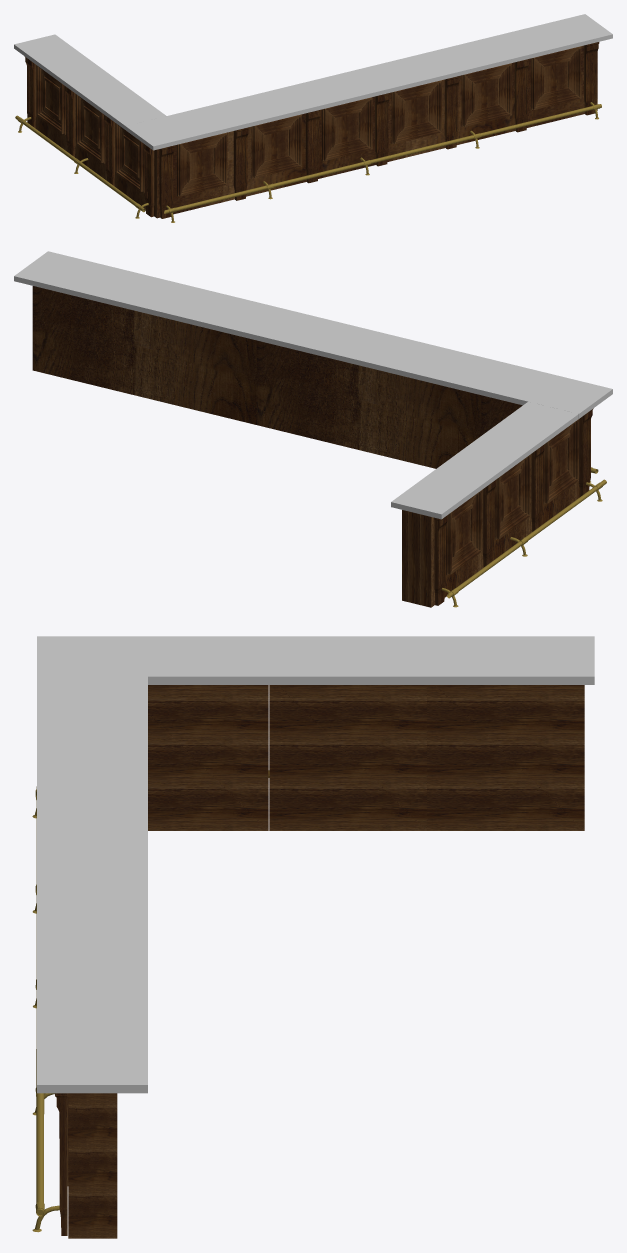
The model's file is Bar.FBX.
3 views of the same model, one above another, from view 1: azimuth 30°, elevation 25°; view 2: azimuth 150°, elevation 25°; view 3: azimuth 270°, elevation 25° (orthographic). The views are drawn at different scales.
Parts seen in each view (by area): view 1: bar, bar metallic structure; view 2: bar, bar metallic structure; view 3: bar, bar metallic structure.
Part boxes in pixels (x1,y1,x2,y2): bar: [14, 14, 612, 218]; bar metallic structure: [15, 102, 601, 222]; bar: [14, 251, 612, 607]; bar metallic structure: [441, 467, 606, 607]; bar: [37, 636, 594, 1238]; bar metallic structure: [32, 770, 269, 1232].
Size of the model in its own units: 7574 by 3970 by 1259.
